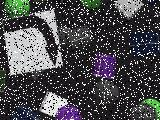Right: (2, 10, 63, 76)
